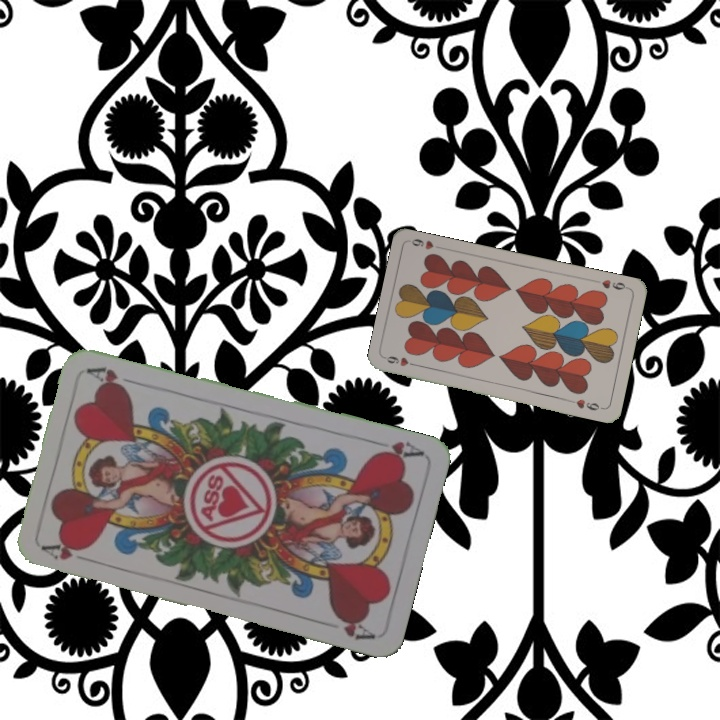H9: (591, 275, 631, 292), (382, 352, 422, 369)
HA: (367, 436, 426, 464), (39, 538, 97, 566)
